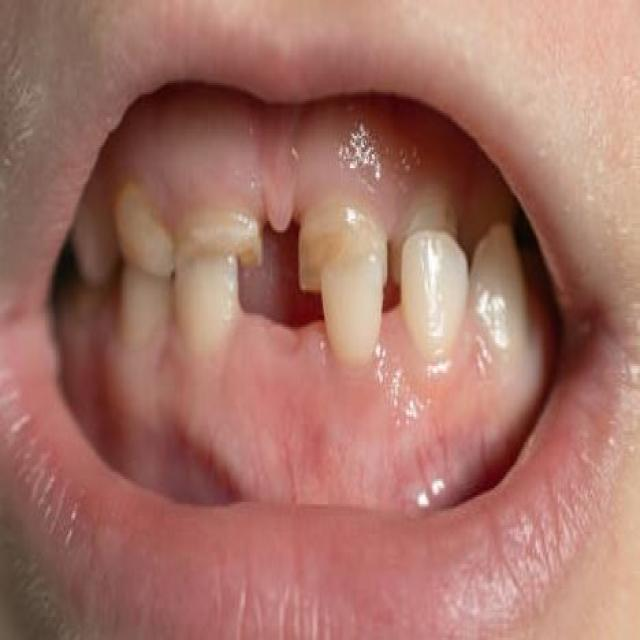caries: (176, 198, 265, 277), (295, 201, 363, 298)
